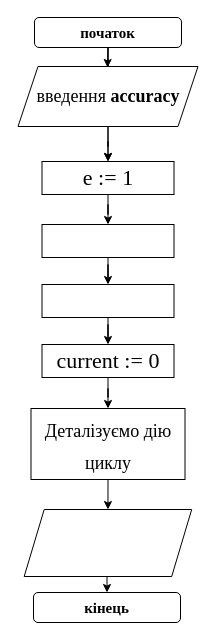
Some shapes in this 215 by 640 pixel diagram are drawn without their labels. Each missing label, with the centre of its shape:
fact := 1: (x=107, y=301)
i := 0: (x=107, y=241)
Виведення е: (x=107, y=542)
